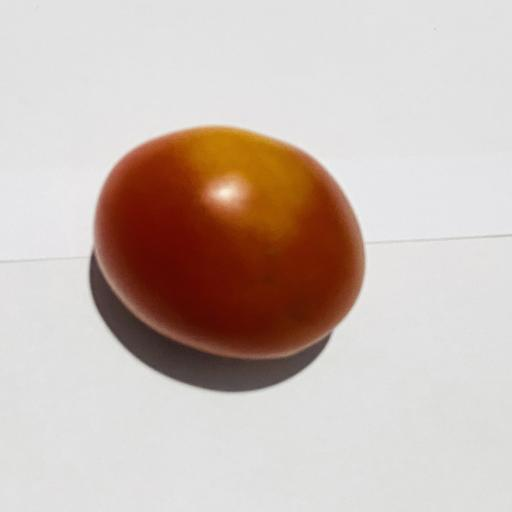ripe: (94, 127, 364, 359)
